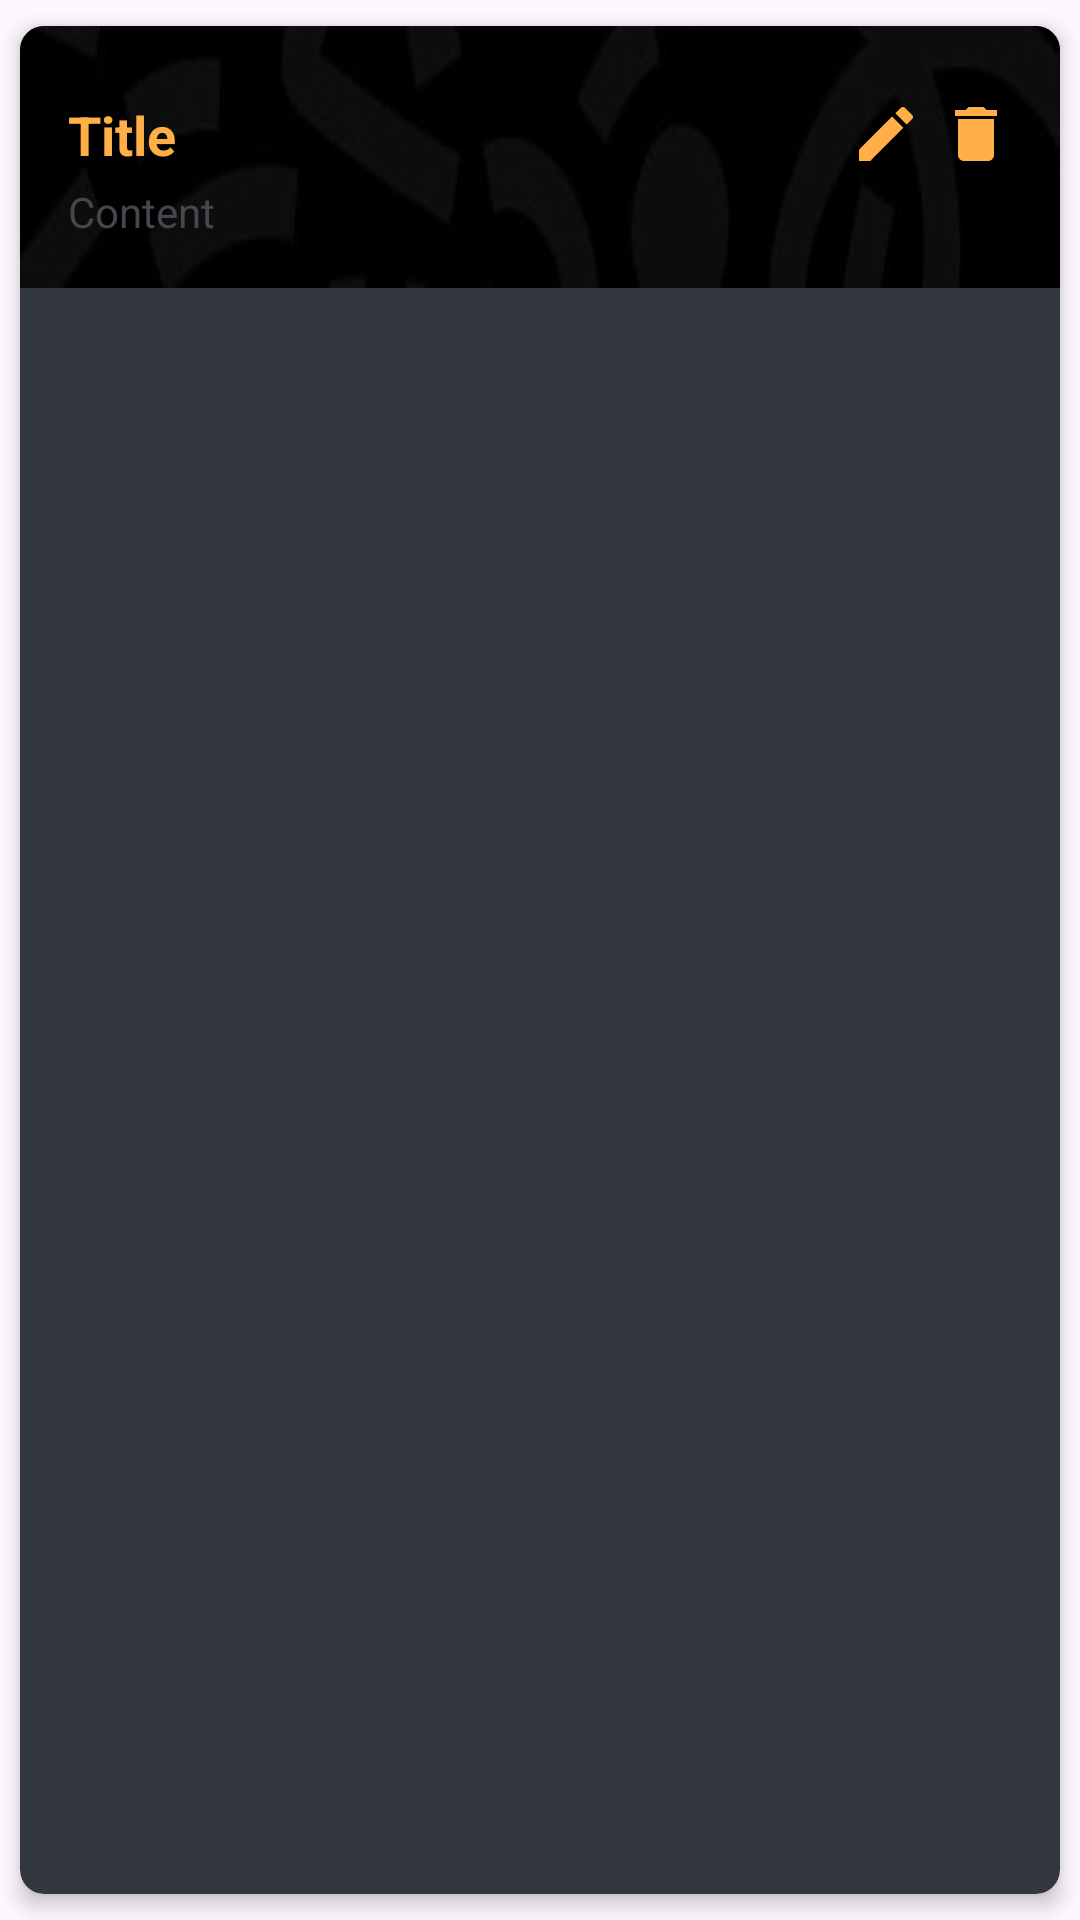

Where to tap for icons on this 1080 x 1920 app screen, as point (x, y):
delete: point (976, 134)
edit: point (886, 134)
